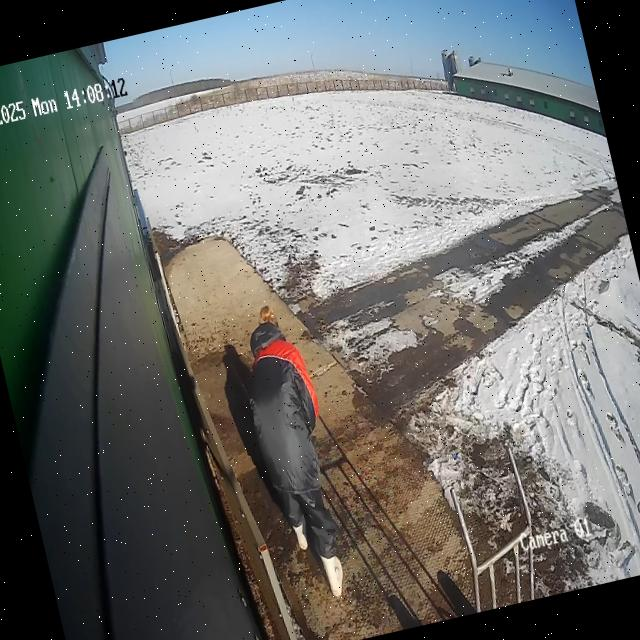Red uniform: (247, 305, 342, 596)
